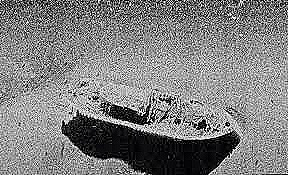ship: (58, 76, 243, 146)
